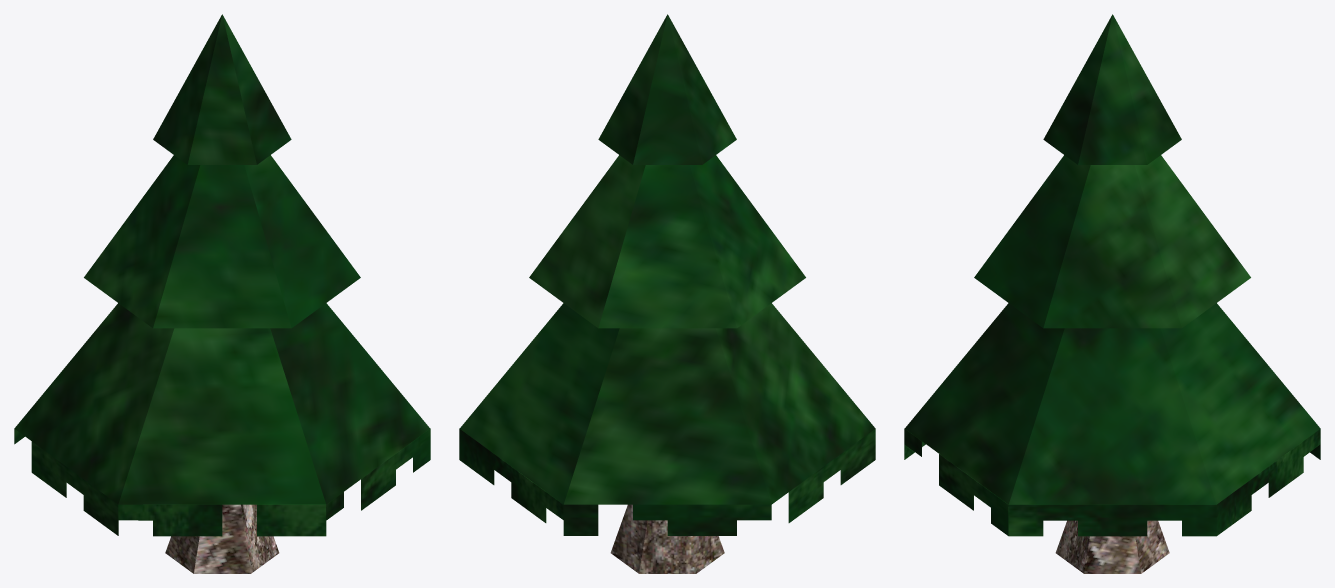
Rendered from tree.fbx.
3 views of the same model, side by side, from view 1: azimuth 30°, elevation 25°; view 2: azimuth 150°, elevation 25°; view 3: azimuth 270°, elevation 25° (orthographic).
Visible parts, largest first — view 1: Cube.001, Cube.002, Cube; view 2: Cube.001, Cube.002, Cube; view 3: Cube.001, Cube.002, Cube.
Boxes of the visible parts, x1,y1,x2,y2 form: Cube.001: (14,14,429,504); Cube.002: (14,428,430,536); Cube: (165,504,279,573); Cube.001: (460,14,875,504); Cube.002: (459,428,875,535); Cube: (610,504,724,573); Cube.001: (905,14,1320,504); Cube.002: (904,428,1320,536); Cube: (1055,520,1169,573).
Bounding box in the file's own units: 1040 × 1716 × 1201.
Materials: 2 (2 with a texture image).
